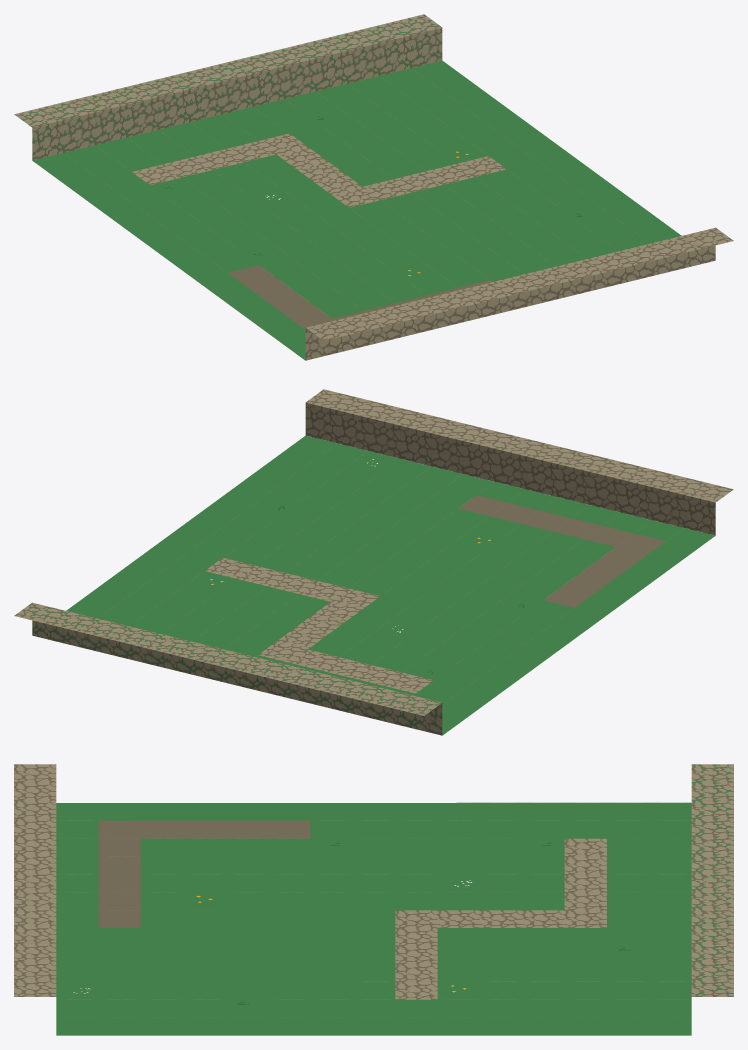
Rendered from grass-32-32.obj.
3 views of the same model, one above another, from view 1: azimuth 30°, elevation 25°; view 2: azimuth 150°, elevation 25°; view 3: azimuth 270°, elevation 25° (orthographic). The views are drawn at different scales.
Visible parts, largest first — view 1: Default; view 2: Default; view 3: Default.
Part boxes in pixels (x1,y1,x2,y2): Default: (14, 14, 733, 360); Default: (14, 389, 733, 735); Default: (14, 764, 733, 1035).
Bounding box in the file's own units: 26 × 2 × 34.
